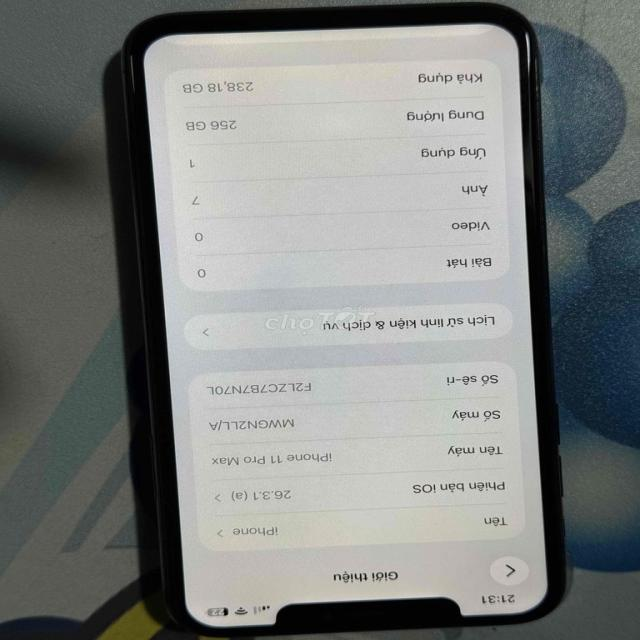gen_11: (122, 3, 564, 635)
